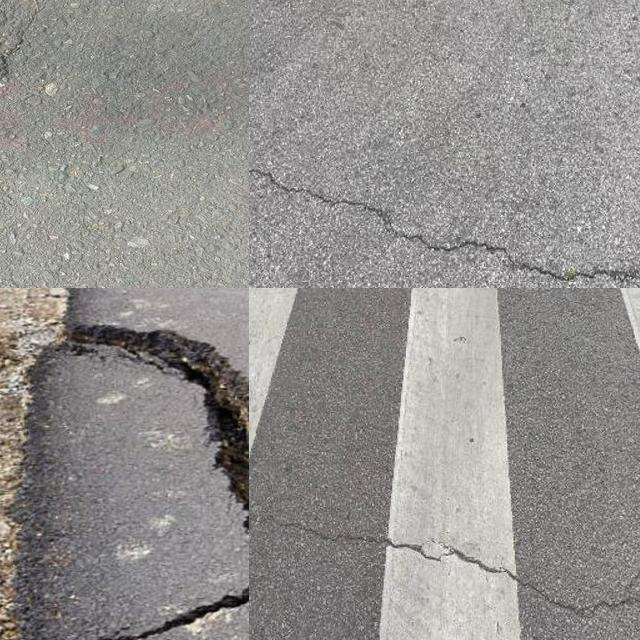Melintang: (249, 141, 640, 288), (274, 506, 640, 637)
Pinggir: (0, 307, 249, 640)
